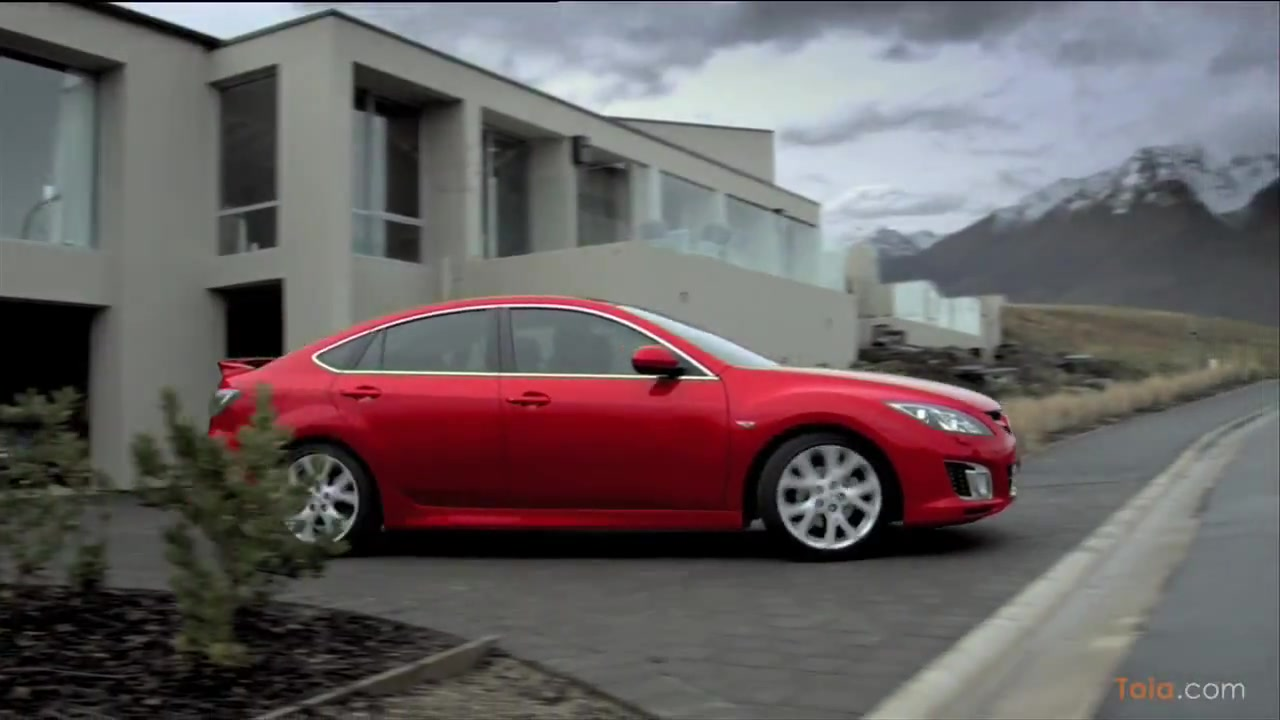car: (206, 292, 1024, 572)
